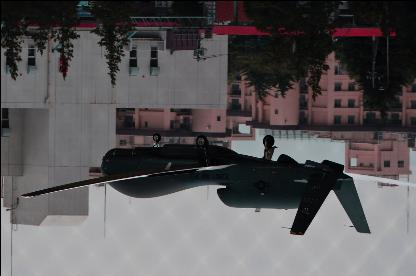P3: (19, 132, 415, 234)
